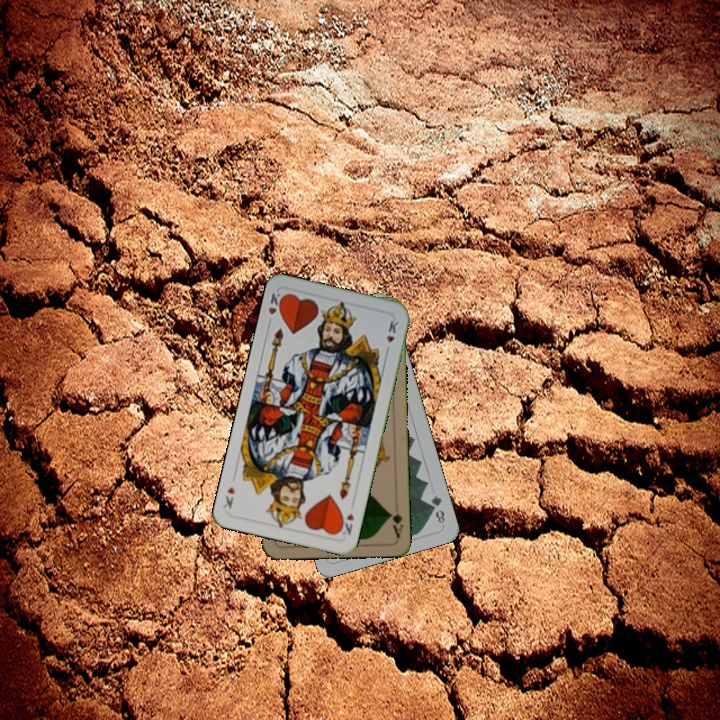G8: (427, 491, 448, 526)
GA: (385, 508, 405, 540)
HK: (264, 288, 287, 328), (335, 509, 357, 538)
